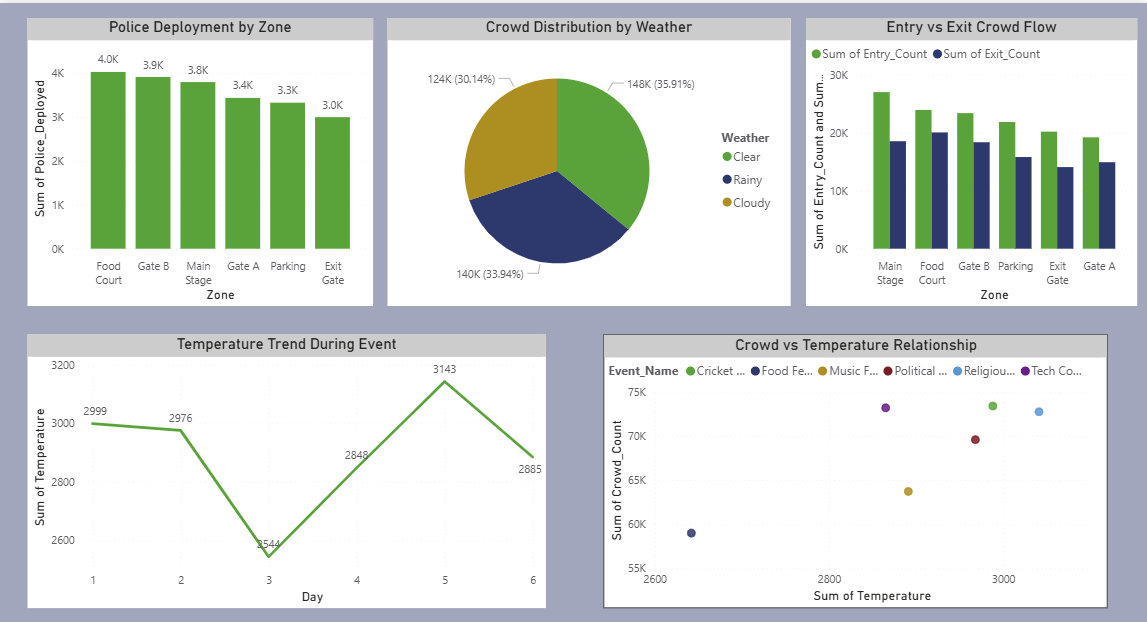

The page's visual inventory and layout, read from the dashboard file:
{"tool":"powerbi","page":{"name":"Security & Environmental Monitoring","canvas":[1280,720],"ordinal":2},"visuals":[{"type":"clusteredColumnChart","title":"Police Deployment by Zone","fields":{"Category":["Event_Safety_Data.Zone"],"Y":["Sum(Event_Safety_Data.Police_Deployed)"]},"box":[32,16,384,320],"z":0},{"type":"clusteredColumnChart","title":"Entry vs Exit Crowd Flow","fields":{"Category":["Event_Safety_Data.Zone"],"Y":["Sum(Event_Safety_Data.Entry_Count)","Sum(Event_Safety_Data.Exit_Count)"]},"box":[896,16,368,320],"z":1000},{"type":"lineChart","title":"Temperature Trend During Event","fields":{"Category":["Event_Safety_Data.Date.Variation.Date Hierarchy.Day"],"Y":["Sum(Event_Safety_Data.Temperature)"]},"box":[32,368,576,304],"z":2000},{"type":"scatterChart","title":"Crowd vs Temperature Relationship","fields":{"X":["Sum(Event_Safety_Data.Temperature)"],"Y":["Sum(Event_Safety_Data.Crowd_Count)"],"Series":["Event_Safety_Data.Event_Name"]},"box":[672,368,560,304],"z":3000},{"type":"pieChart","title":"Crowd Distribution by Weather","fields":{"Category":["Event_Safety_Data.Weather"],"Y":["Sum(Event_Safety_Data.Crowd_Count)"]},"box":[432,16,448,320],"z":4000}]}

Visuals, with their boxes on the page's 1280x720 design canvas (x1, y1, x2, y2). These are canvas units, not pixel positions in the 1147x622 screenshot, which may show the page scaled, cropped or inside an application window:
"Police Deployment by Zone" clusteredColumnChart: BBox(32, 16, 416, 336)
"Entry vs Exit Crowd Flow" clusteredColumnChart: BBox(896, 16, 1264, 336)
"Temperature Trend During Event" lineChart: BBox(32, 368, 608, 672)
"Crowd vs Temperature Relationship" scatterChart: BBox(672, 368, 1232, 672)
"Crowd Distribution by Weather" pieChart: BBox(432, 16, 880, 336)
